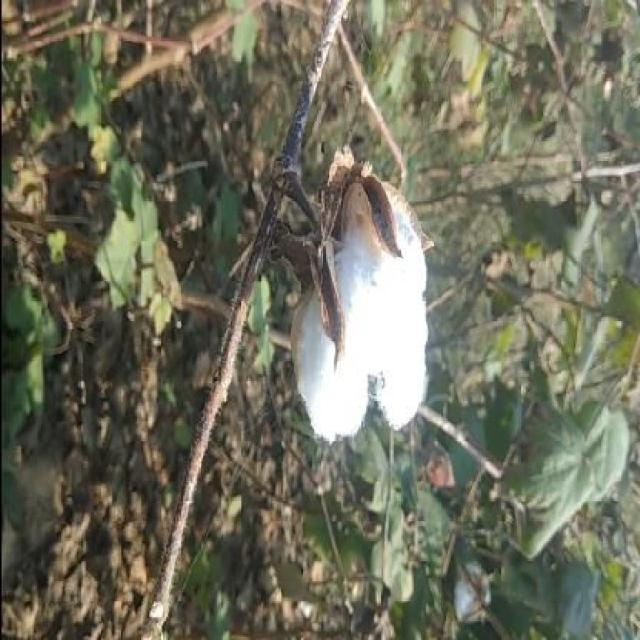cotton_ready: (218, 139, 465, 453)
